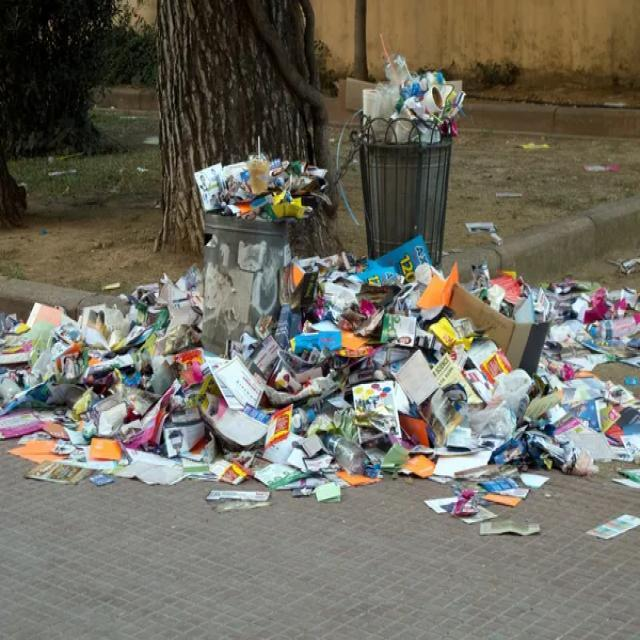garbage: (112, 178, 630, 530)
